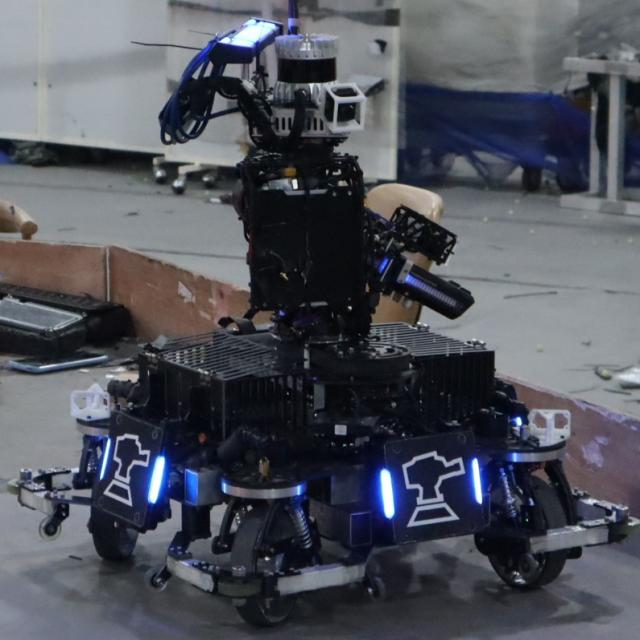Bs: (382, 452, 483, 526), (96, 425, 169, 515)
